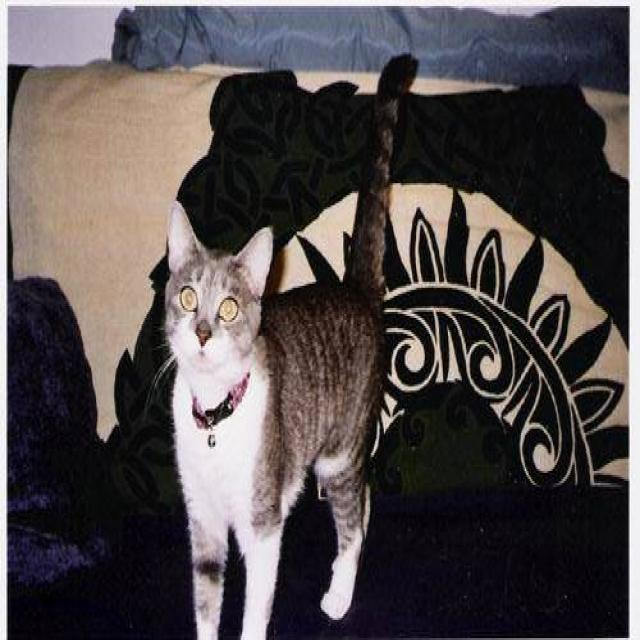cat: (148, 50, 418, 638)
